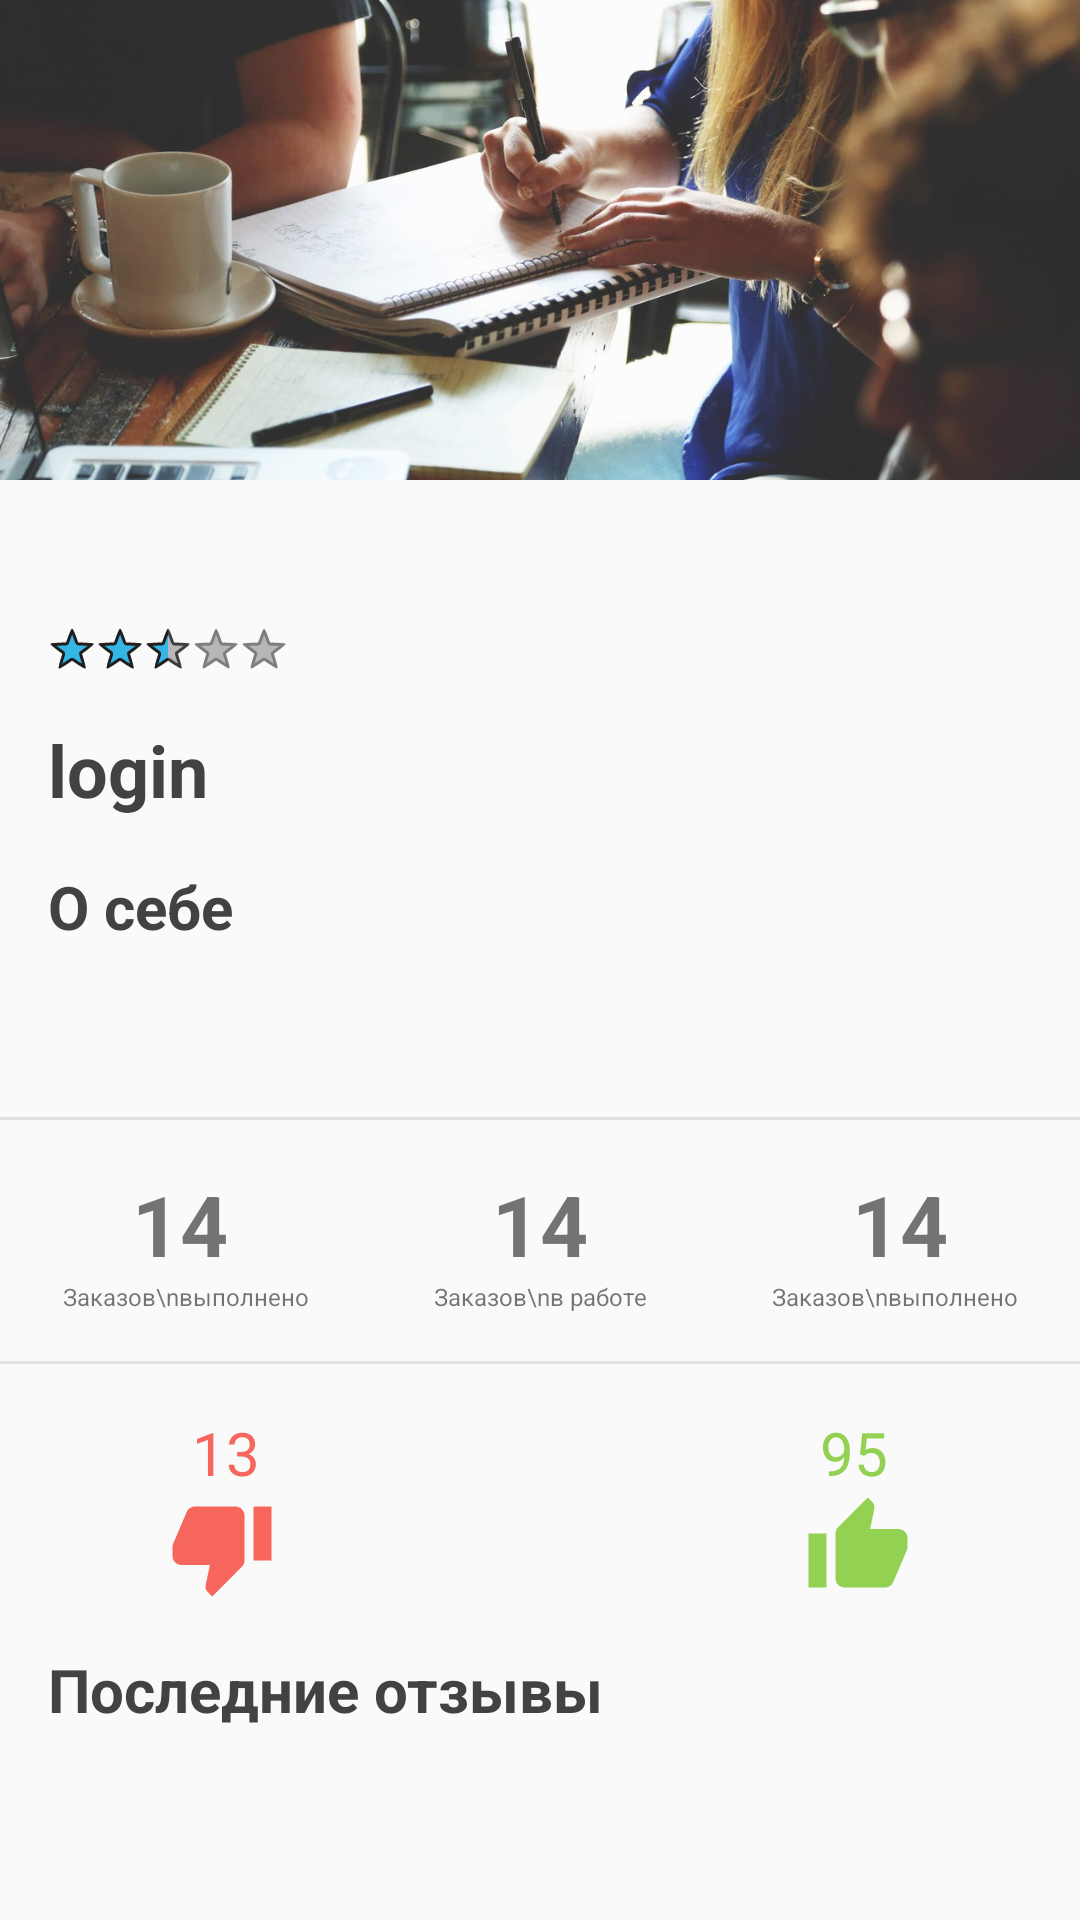

Where icons sit on this 1080x1920 app screen, as Rect(x1, y1, x2, y2):
thumb down: Rect(172, 1506, 272, 1597)
thumb up: Rect(808, 1497, 908, 1588)
